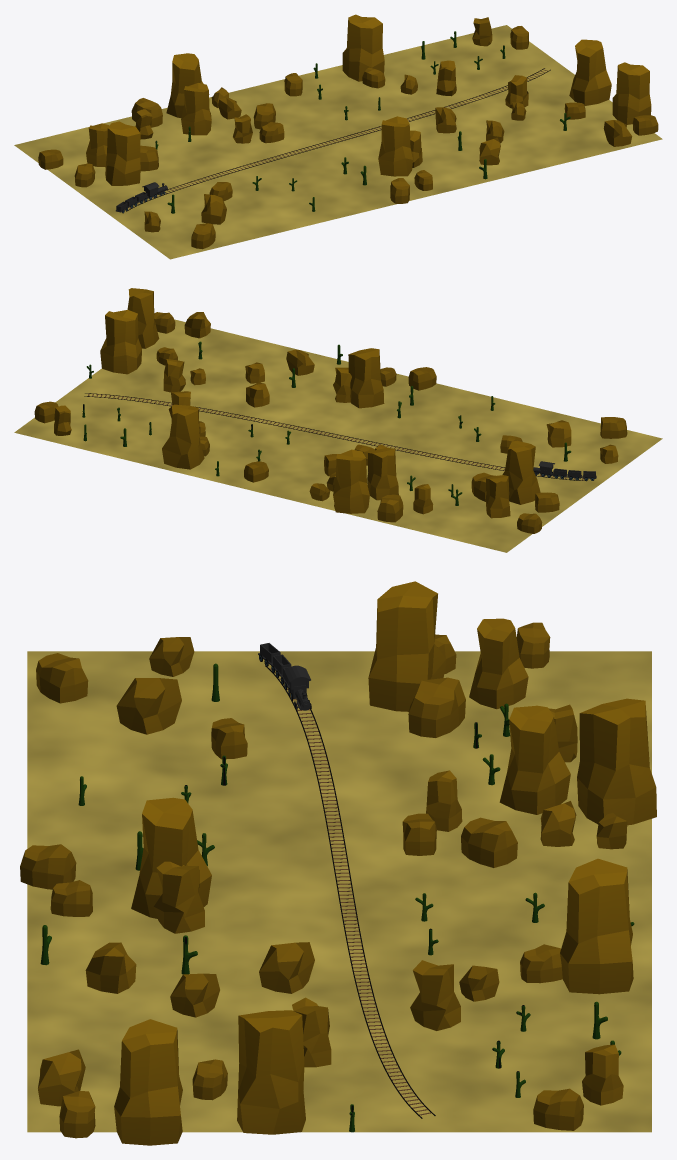
File: train.glb
3 renders of one model, top to bottom at view 1: azimuth 30°, elevation 25°; view 2: azimuth 150°, elevation 25°; view 3: azimuth 270°, elevation 25°, orthographic. The views are drawn at different scales.
Parts seen in each view (by area): view 1: Plane, Plane.001; view 2: Plane, Plane.001; view 3: Plane, Plane.001, TRAIN.
Part boxes in pixels (x1=…): Plane: x1=14, y1=14, x2=662, y2=259; Plane.001: x1=126, y1=68, x2=550, y2=211; Plane: x1=14, y1=288, x2=662, y2=552; Plane.001: x1=84, y1=393, x2=586, y2=481; Plane: x1=20, y1=581, x2=656, y2=1145; Plane.001: x1=265, y1=666, x2=435, y2=1118; TRAIN: x1=284, y1=665, x2=311, y2=710.
Bounding box in the file's own units: 113 × 11.36 × 61.03.
4 materials, 4 textured.
